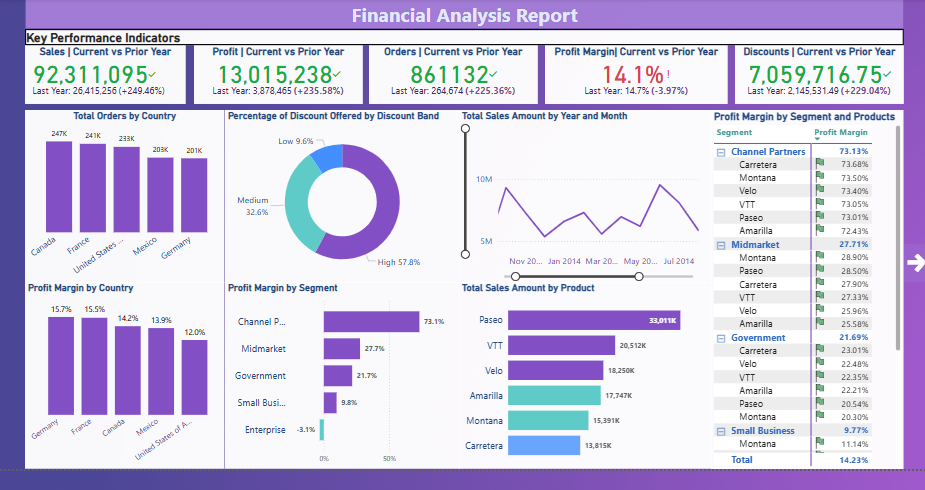

What the dashboard file says about the page in this screenshot:
{"tool":"powerbi","page":{"name":"analysis1","canvas":[1605,813],"ordinal":0},"visuals":[{"type":"shape","box":[44.9,0,1520.4,51.8],"z":0},{"type":"kpi","title":"Sales | Current vs Prior Year","fields":{"Indicator":["Analysis by measures.Total Sales Amount"],"TrendLine":["Date Table.Year"],"Goal":["Analysis by measures.Sales Amount LY"]},"box":[44.9,79.4,277.9,101.8],"z":1000},{"type":"kpi","title":"Profit | Current vs Prior Year","fields":{"TrendLine":["Date Table.Year"],"Goal":["Analysis by measures.Total Profit LY"],"Indicator":["Analysis by measures.Total Profit"]},"box":[336.5,79.4,291.7,101.8],"z":2000},{"type":"kpi","title":"Orders | Current vs Prior Year","fields":{"TrendLine":["Date Table.Year"],"Goal":["Analysis by measures.Orders LY"],"Indicator":["Analysis by measures.Orders"]},"box":[640.3,79.4,291.7,101.8],"z":3000},{"type":"kpi","title":"Profit Margin| Current vs Prior Year","fields":{"TrendLine":["Date Table.Year"],"Goal":["Analysis by measures.Profit Margin LY"],"Indicator":["Analysis by measures.Profit Margin"]},"box":[944,79.4,315.8,101.8],"z":4000},{"type":"kpi","title":"Discounts  | Current vs Prior Year","fields":{"TrendLine":["Date Table.Year"],"Goal":["Analysis by measures.Discounts Offered LY"],"Indicator":["Analysis by measures.Discounts Offered"]},"box":[1273.6,79.4,291.7,101.8],"z":5000},{"type":"columnChart","fields":{"Category":["financials.Country"],"Y":["Analysis by measures.Orders"]},"box":[44.9,191.6,345.2,298.6],"z":6000},{"type":"clusteredColumnChart","fields":{"Category":["financials.Country"],"Y":["Analysis by measures.Profit Margin"]},"box":[44.9,490.1,345.2,322.7],"z":7000},{"type":"donutChart","title":"Percentage of Discount Offered by Discount Band","fields":{"Y":["Analysis by measures.Discounts Offered"],"Category":["financials.Discount Band"]},"box":[390,191.6,405.6,298.6],"z":8000},{"type":"barChart","fields":{"Category":["financials.Segment"],"Y":["Analysis by measures.Profit Margin"]},"box":[390,490.1,405.6,322.7],"z":9000},{"type":"lineChart","fields":{"Category":["Date Table.Date.Variation.Date Hierarchy.Year","Date Table.Date.Variation.Date Hierarchy.Month"],"Y":["Analysis by measures.Total Sales Amount"]},"box":[795.6,191.6,436.6,298.6],"z":10000},{"type":"barChart","fields":{"Y":["Analysis by measures.Total Sales Amount"],"Category":["financials.Product"]},"box":[795.6,490.1,436.6,322.7],"z":11000},{"type":"pivotTable","title":"Profit Margin by Segment and Products","fields":{"Rows":["financials.Segment","financials.Product"],"Values":["Analysis by measures.Profit Margin"]},"box":[1232.2,191.6,333.1,621.3],"z":12000},{"type":"shape","title":"Key Performance Indicators","box":[45,51.9,1520.3,27.7],"z":13000},{"type":"actionButton","box":[1565.3,424.5,39.7,65.6],"z":14000}]}

Visuals, with their boxes on the page's 1605x813 design canvas (x1, y1, x2, y2). These are canvas units, not pixel positions in the 925x490 screenshot, which may show the page scaled, cropped or inside an application window:
shape: 45/0/1565/52
"Sales | Current vs Prior Year" kpi: 45/79/323/181
"Profit | Current vs Prior Year" kpi: 336/79/628/181
"Orders | Current vs Prior Year" kpi: 640/79/932/181
"Profit Margin| Current vs Prior Year" kpi: 944/79/1260/181
"Discounts  | Current vs Prior Year" kpi: 1274/79/1565/181
columnChart - financials.Country x Analysis by measures.Orders: 45/192/390/490
clusteredColumnChart - financials.Country x Analysis by measures.Profit Margin: 45/490/390/813
"Percentage of Discount Offered by Discount Band" donutChart: 390/192/796/490
barChart - financials.Segment x Analysis by measures.Profit Margin: 390/490/796/813
lineChart - Date Table.Date.Variation.Date Hierarchy.Year x Date Table.Date.Variation.Date Hierarchy.Month: 796/192/1232/490
barChart - Analysis by measures.Total Sales Amount x financials.Product: 796/490/1232/813
"Profit Margin by Segment and Products" pivotTable: 1232/192/1565/813
"Key Performance Indicators" shape: 45/52/1565/80
actionButton: 1565/424/1605/490
